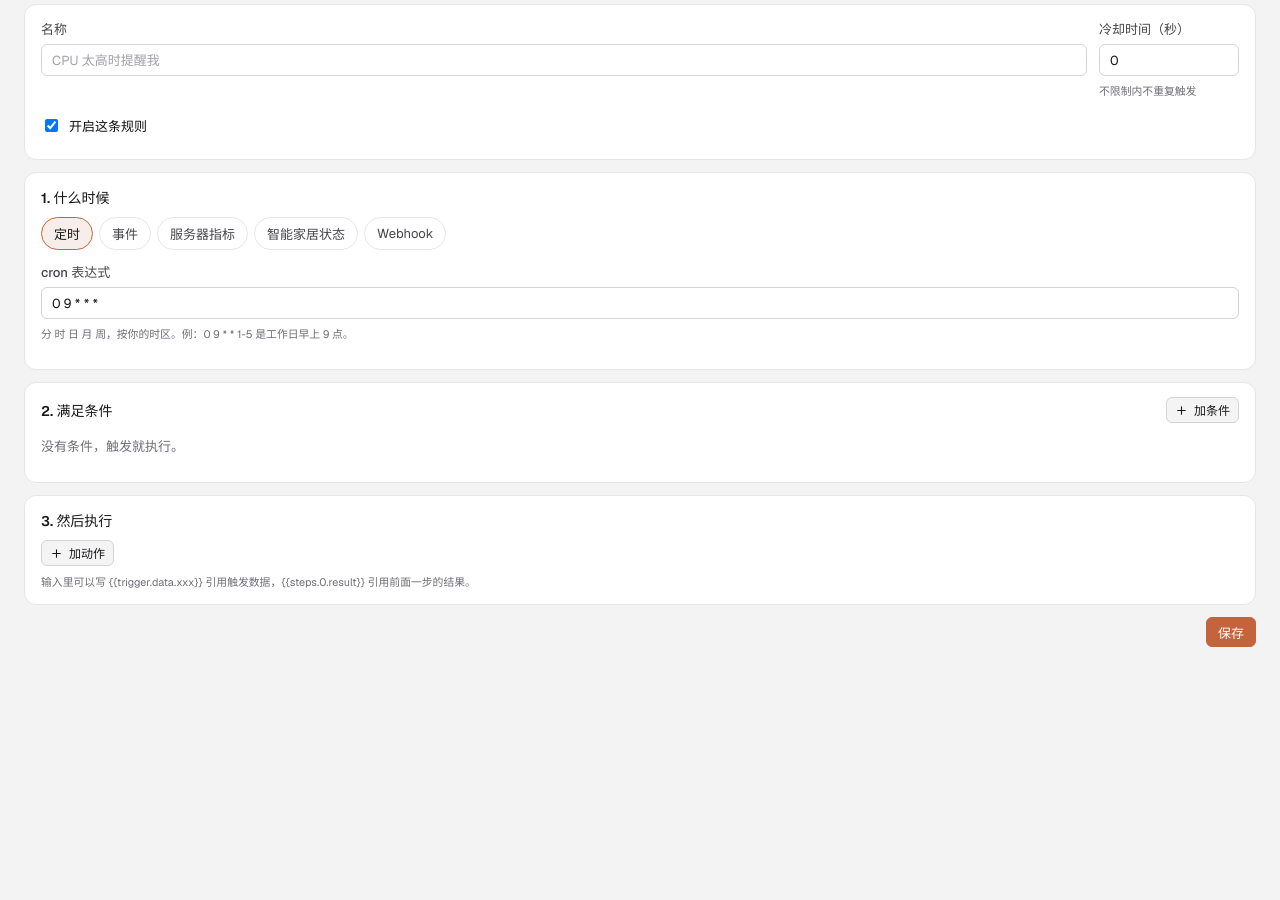
automations › warns about dangerous actions
The image size is (1280, 900).
Click the button "加动作" at (78, 553), box [41,540,114,566]
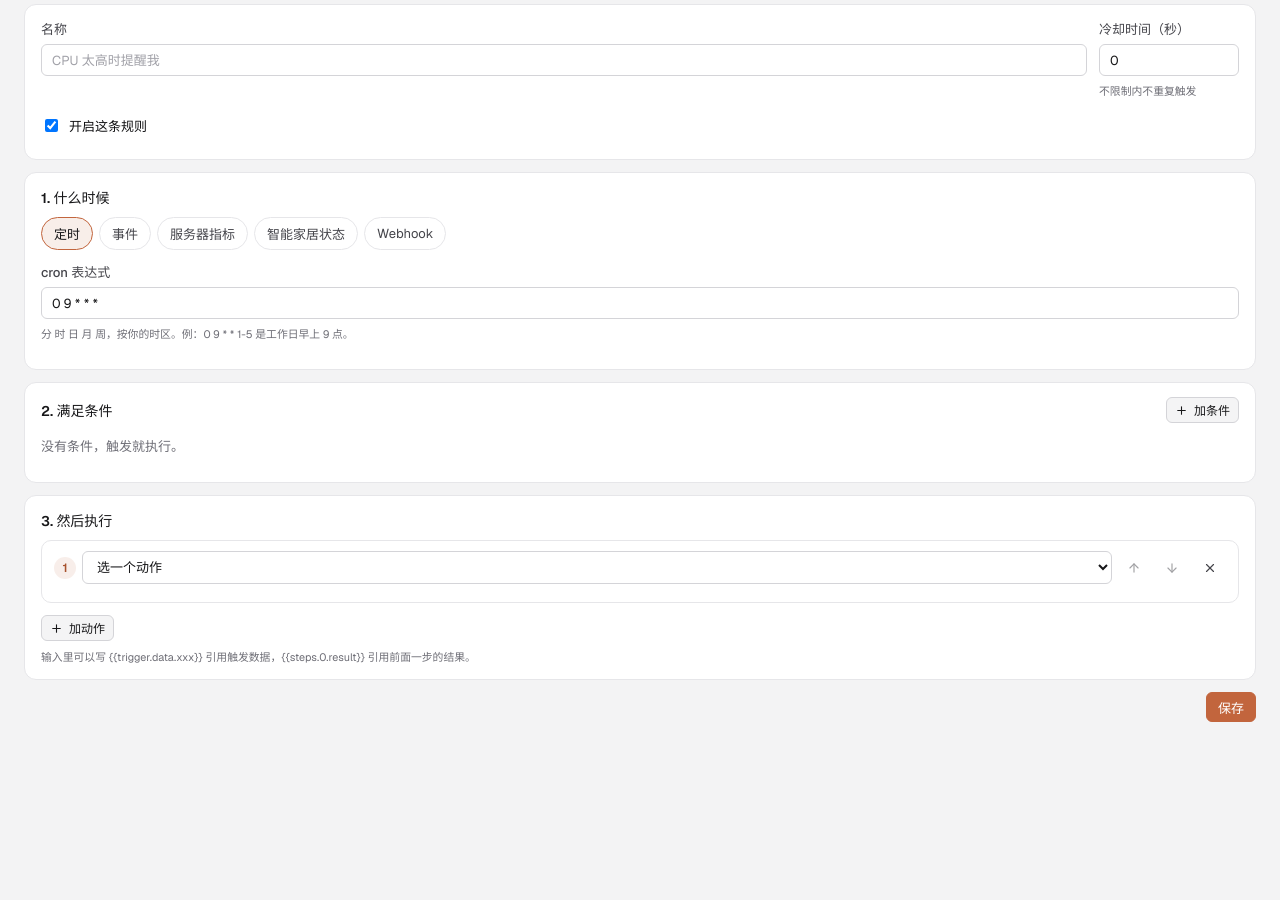
Select "运行脚本（scripts.run）" in the dropdown named "动作 1" at (597, 568), box [82,551,1112,584]
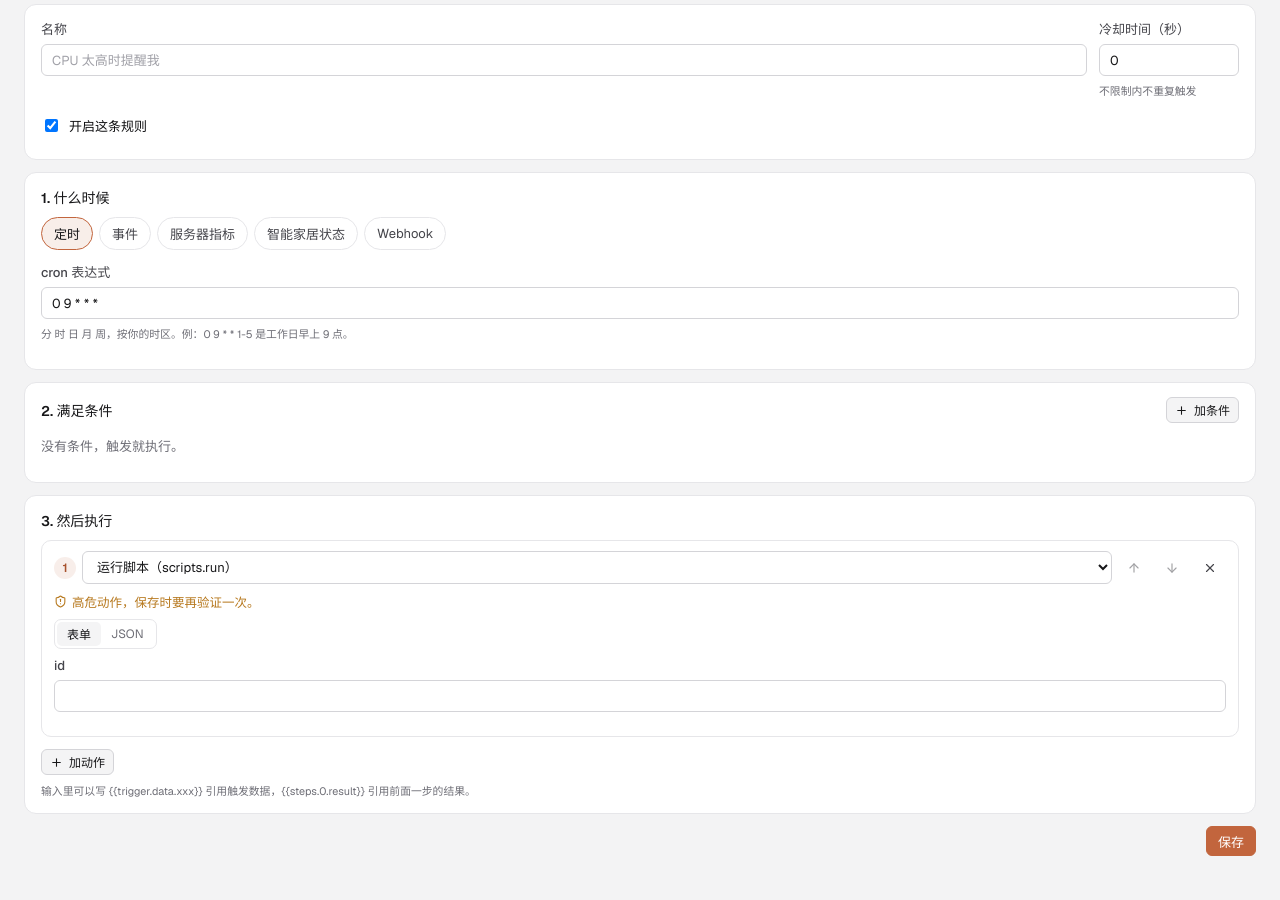
Now the text "高危动作，保存时要再验证一次。" is shown, box [54,592,260,611]
